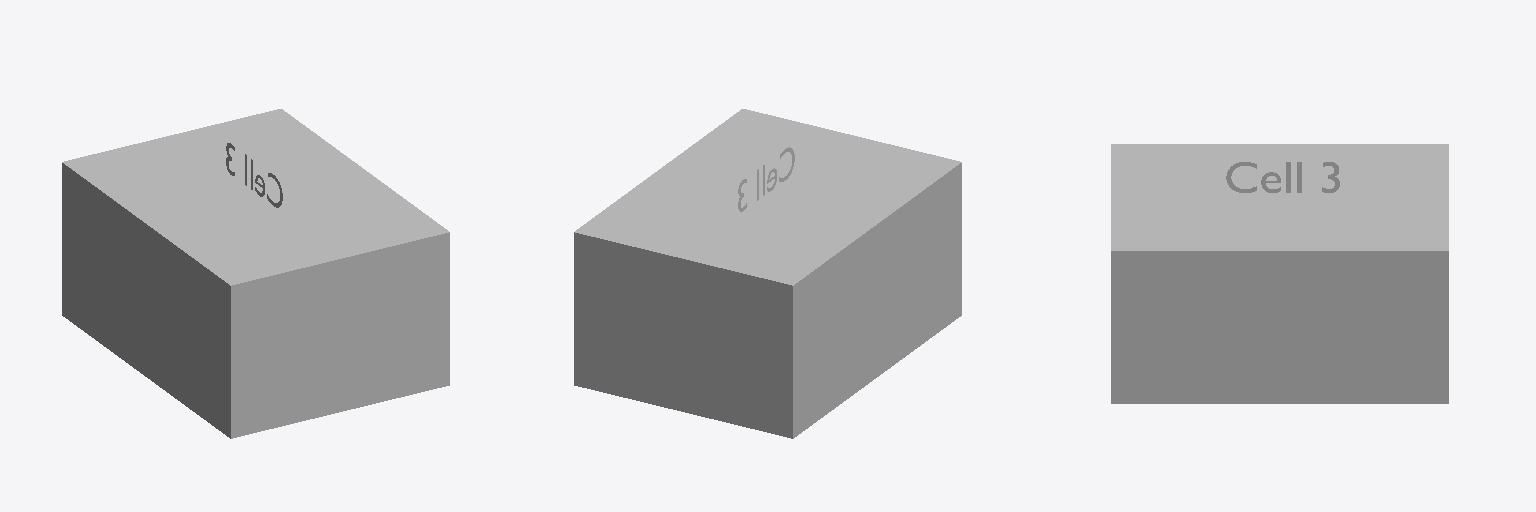
File: cell3.obj
3 views of the same model, side by side, from view 1: azimuth 30°, elevation 25°; view 2: azimuth 150°, elevation 25°; view 3: azimuth 270°, elevation 25° (orthographic).
Parts seen in each view (by area): view 1: Cube, Text; view 2: Cube, Text; view 3: Cube, Text.
Part boxes in pixels (bbox=[...]): Cube: bbox=[62, 109, 449, 438]; Text: bbox=[226, 143, 282, 207]; Cube: bbox=[574, 109, 961, 438]; Text: bbox=[738, 147, 794, 211]; Cube: bbox=[1111, 144, 1448, 403]; Text: bbox=[1226, 162, 1339, 192].
Bounding box in the file's own units: 12 × 9.85 × 16.